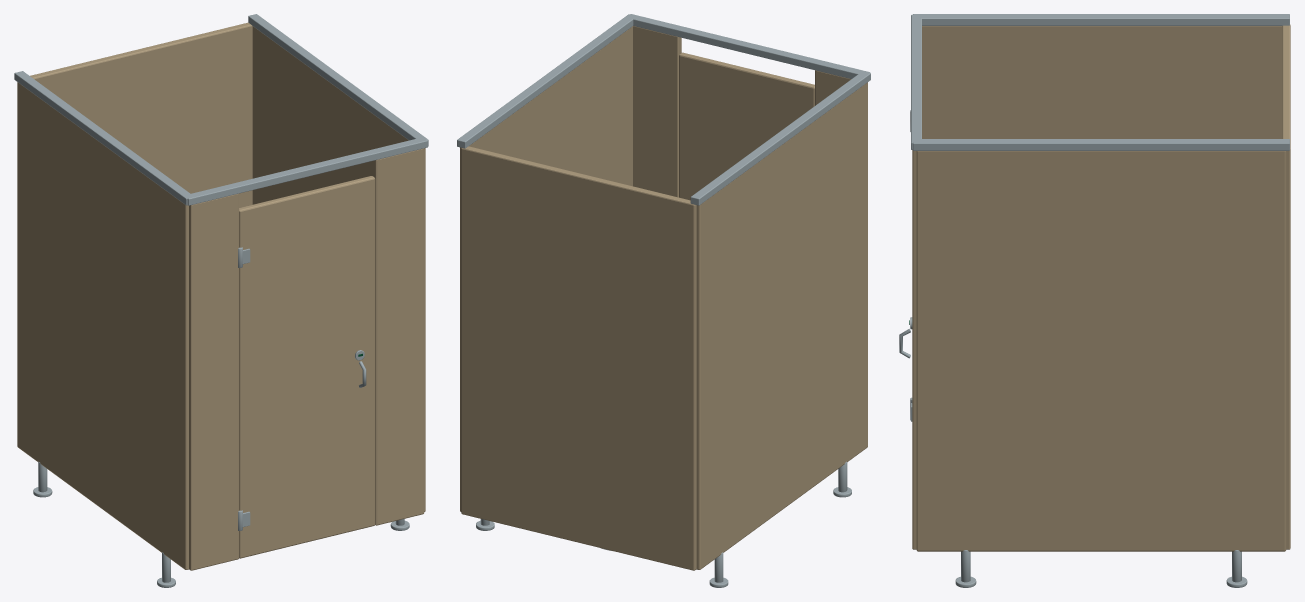
The model's file is OAA_Stall_Set_120x150.fbx.
3 renders of one model, left to right at view 1: azimuth 30°, elevation 25°; view 2: azimuth 150°, elevation 25°; view 3: azimuth 270°, elevation 25°, orthographic. The views are drawn at different scales.
Visible parts, largest first — view 1: Body, CubicleDoor_HingePivot_Mesh; view 2: Body, CubicleDoor_HingePivot_Mesh; view 3: Body.
Part boxes in pixels (x1,y1,x2,y2): Body: (14,14,428,587); CubicleDoor_HingePivot_Mesh: (238,176,375,558); Body: (457,14,870,587); CubicleDoor_HingePivot_Mesh: (679,52,814,200); Body: (911,14,1290,587).
Bounding box in the file's own units: 1.28 × 1.98 × 1.59.
